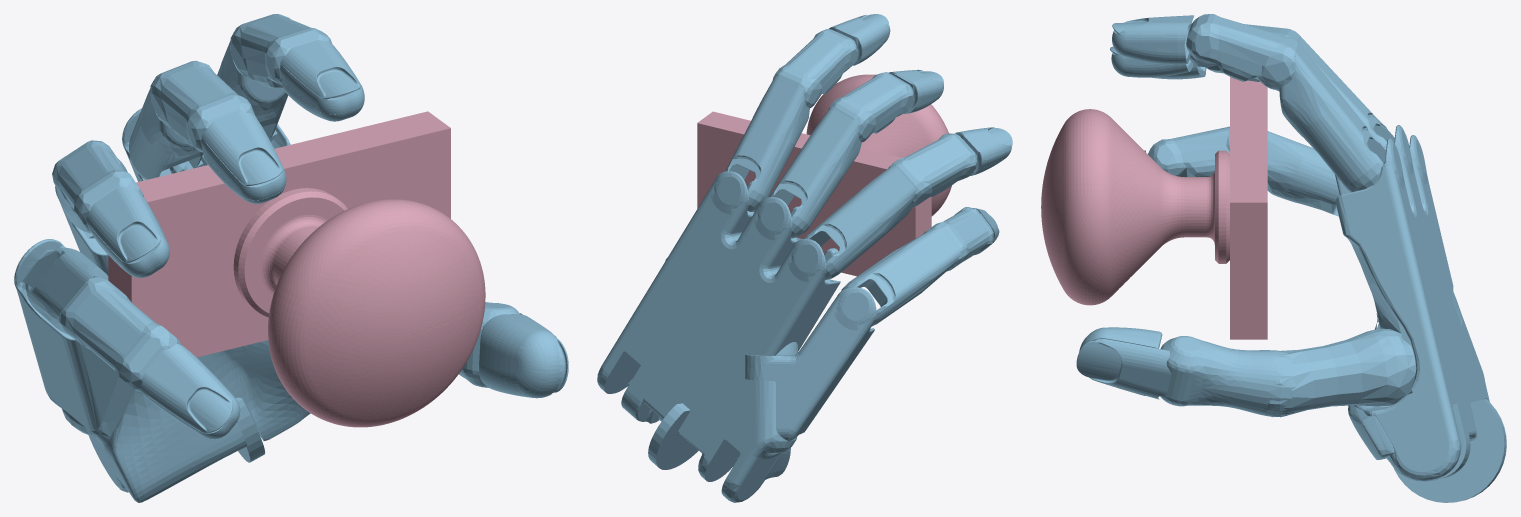
The picture shows the model from 3 angles, left to right: view 1: azimuth 30°, elevation 25°; view 2: azimuth 150°, elevation 25°; view 3: azimuth 270°, elevation 25°; orthographic projection. The views are drawn at different scales.
Visible parts, largest first — view 1: world, door_knob.stl; view 2: world, door_knob.stl; view 3: world, door_knob.stl.
Boxes of the visible parts, <box> form: world: <box>14,14,568,502</box>; door_knob.stl: <box>108,111,485,427</box>; world: <box>597,14,1012,502</box>; door_knob.stl: <box>697,74,951,276</box>; world: <box>1076,14,1506,502</box>; door_knob.stl: <box>1041,77,1267,339</box>.
Size of the model in its own units: 0.1334 by 0.169 by 0.1542.
